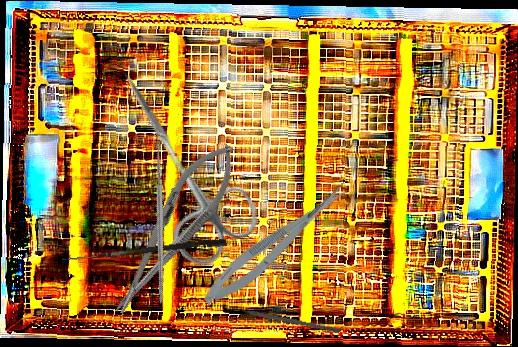Hook Surgical: (74, 121, 237, 305), (62, 235, 227, 269)
Iris Scissors: (84, 51, 269, 275)
Micro Scissor: (195, 176, 359, 313)
Needle Holder: (97, 132, 250, 325)
Pusher: (229, 304, 341, 334)
